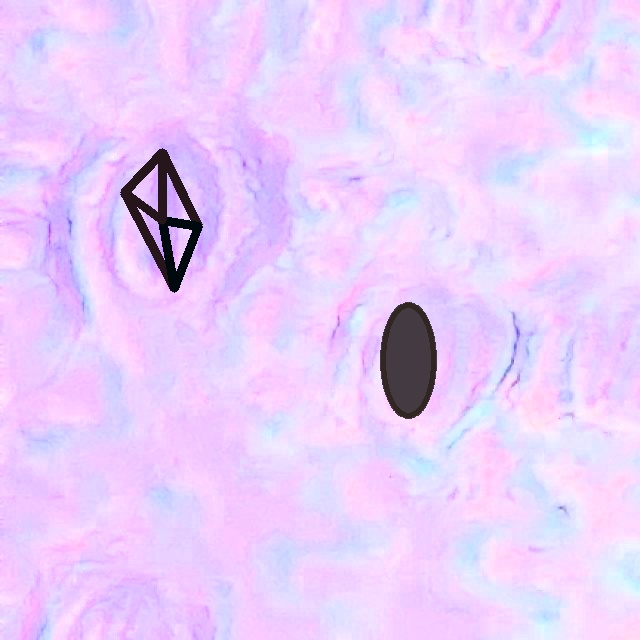close: (379, 302, 436, 419)
open: (121, 149, 202, 292)
